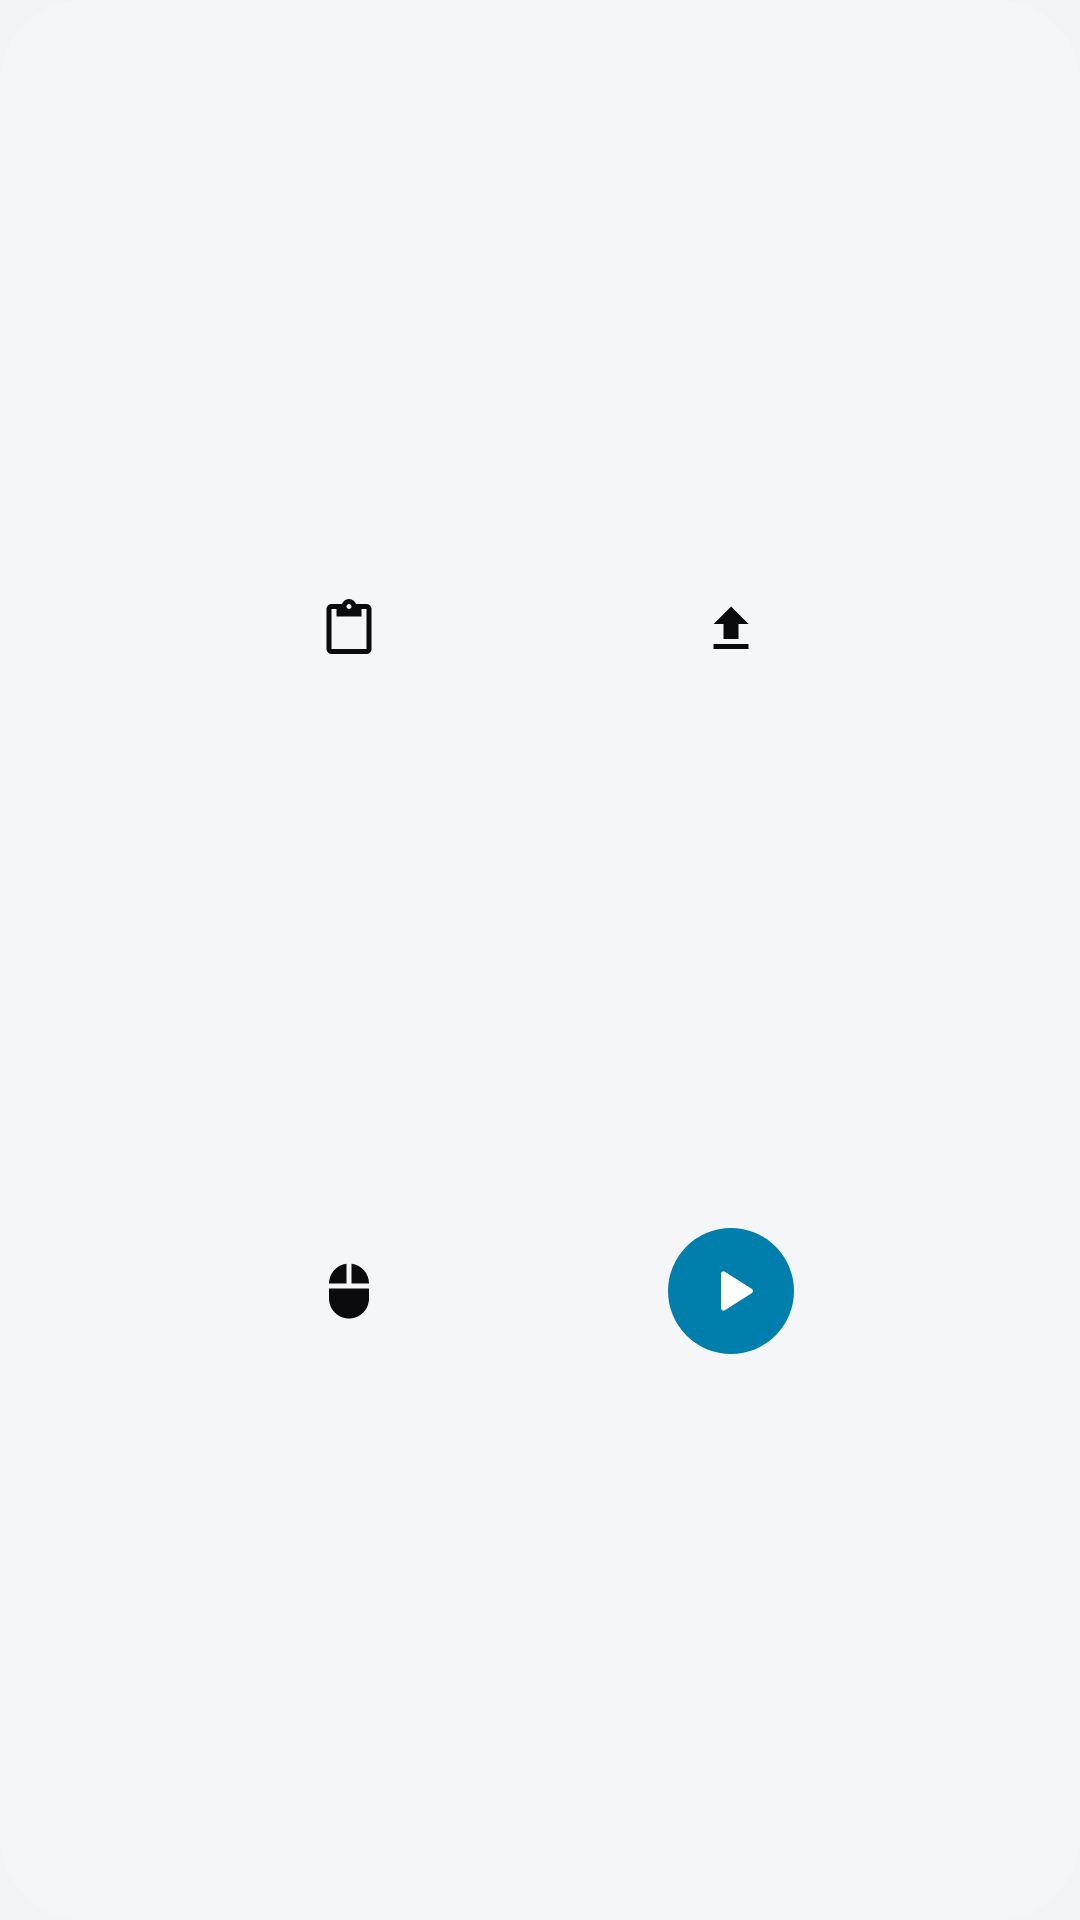

Icon click points for this 1080*1920 phone screenshot, format (x,y):
clipboard: (349,626)
mouse: (349,1291)
play: (731,1291)
upload: (731,627)
